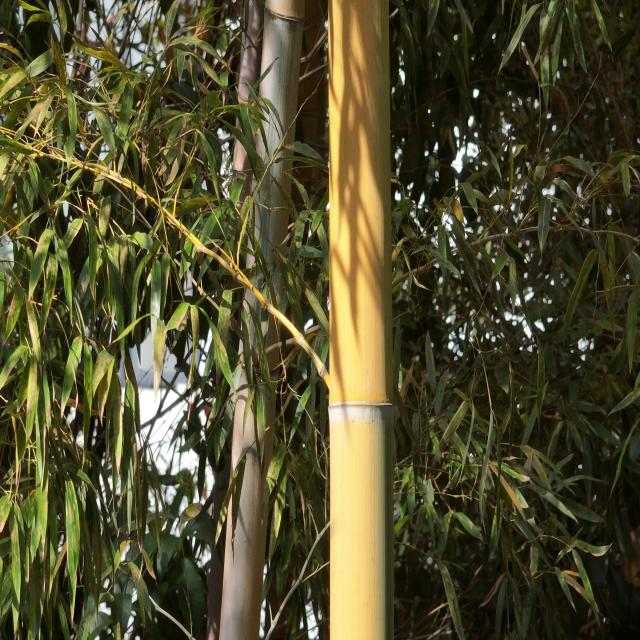Bamboo-shoots: (328, 0, 394, 640)
